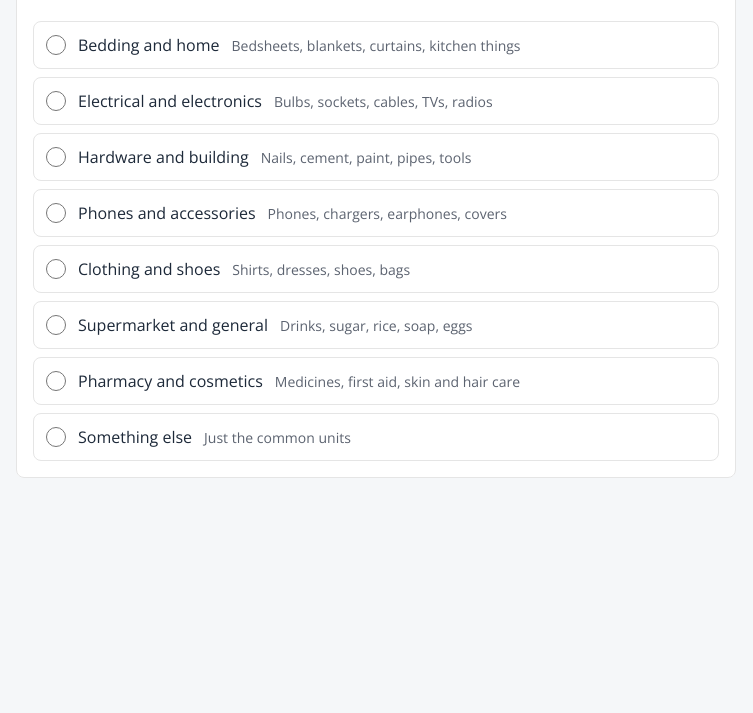
Set up your shop (issue #625) › leaves a pack out when its smaller unit is unticked and not in the shop, and says so
The width and height of the screenshot is (753, 713).
What coordinates should you click on to do the following:
click the radio button labelled "Supermarket and general Drinks, sugar, rice, soap, eggs"
I would click on:
 (56, 325)
Its box is [46,315,66,335].
(page scrolled)
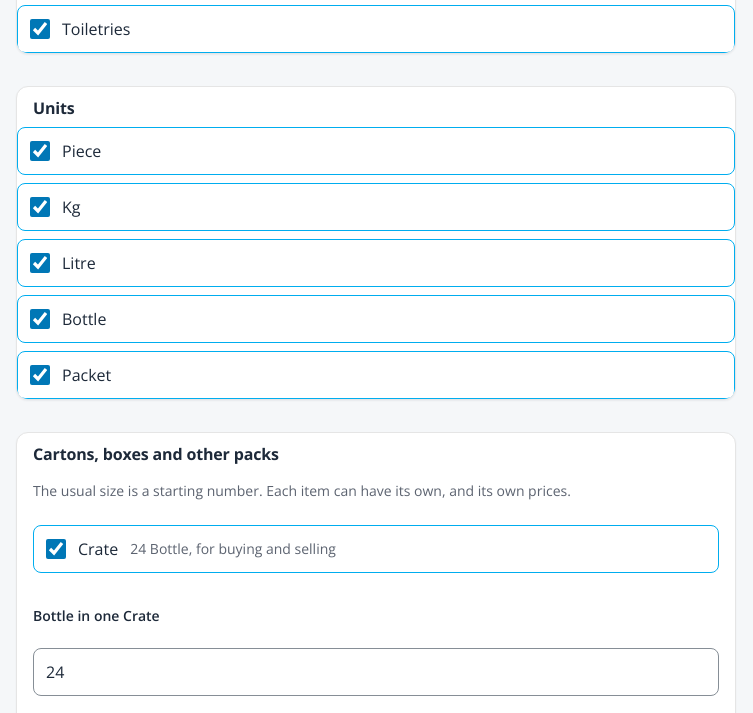
What coordinates should you click on to do the following:
click the checkbox labelled "Bottle"
I would click on:
 (40, 319)
Its box is [30,309,50,329].
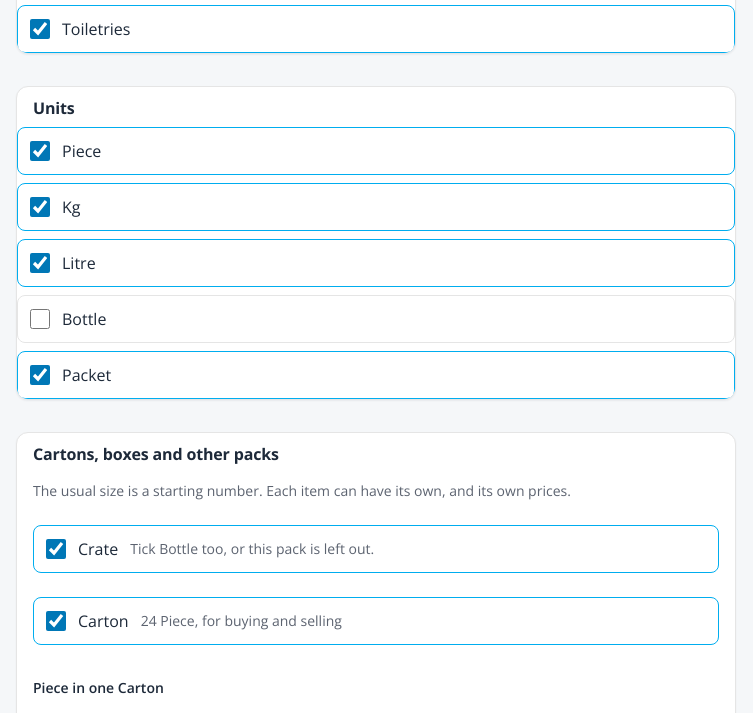
expect the text "Tick Bottle too, or this pack is left out." is shown: met, box [130,538,374,559]
